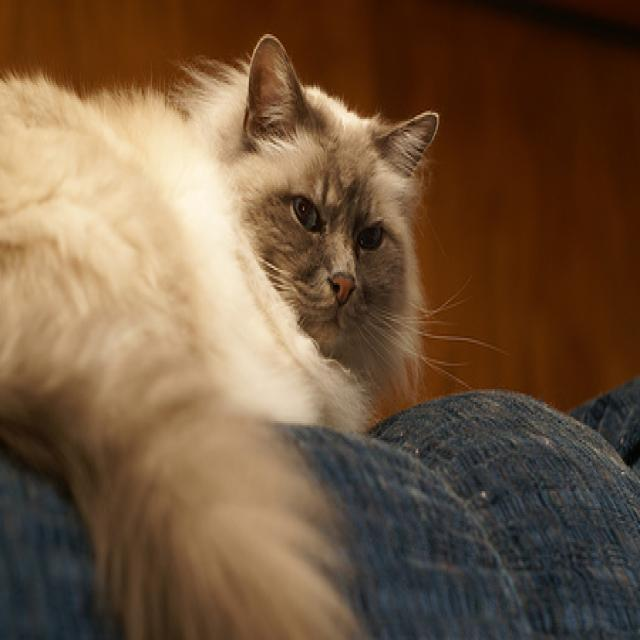Birman: (0, 25, 443, 640)
